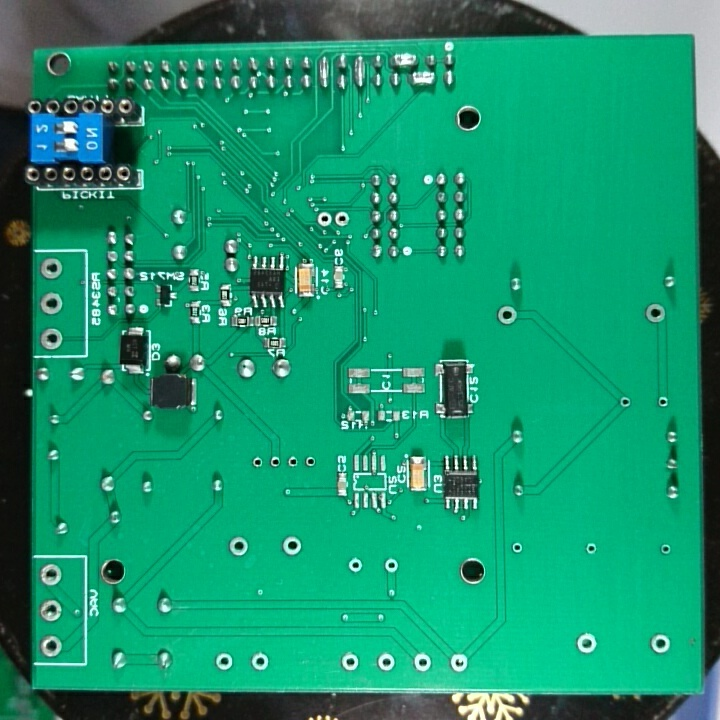F: (37, 289, 65, 319), (640, 300, 669, 326), (37, 632, 64, 659), (38, 255, 65, 282), (37, 326, 65, 352), (37, 598, 63, 625), (37, 562, 63, 589), (574, 629, 598, 658), (648, 631, 671, 658), (248, 648, 271, 675), (225, 535, 250, 559), (494, 302, 517, 327), (447, 650, 470, 675), (279, 534, 304, 557), (375, 650, 397, 675), (411, 649, 433, 673), (299, 449, 319, 473), (339, 651, 360, 673), (213, 651, 234, 672), (333, 207, 351, 230), (382, 555, 400, 577), (656, 539, 675, 559), (345, 555, 364, 575), (266, 451, 283, 473), (249, 453, 267, 473), (315, 209, 333, 228), (654, 392, 671, 412), (617, 393, 634, 413), (582, 538, 599, 558), (283, 451, 300, 471), (509, 540, 524, 558)
P: (350, 52, 369, 92), (387, 49, 422, 70), (409, 66, 436, 89), (316, 53, 331, 89)
